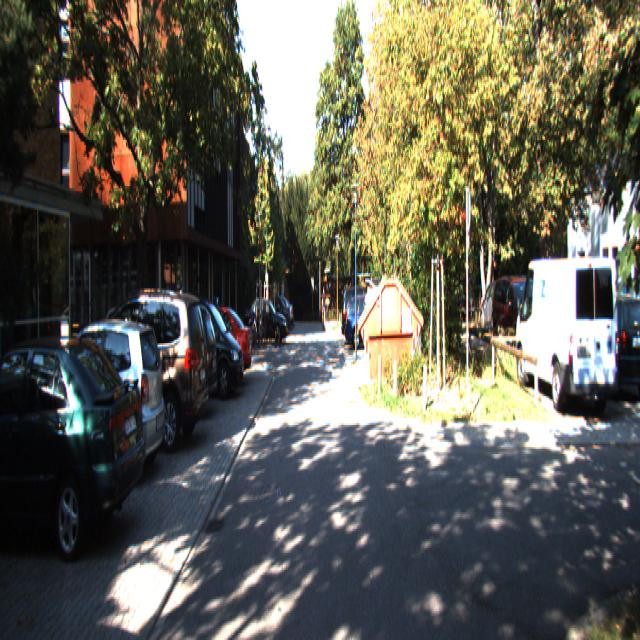Car: (0, 324, 150, 562), (24, 312, 168, 492), (64, 285, 210, 456), (511, 249, 622, 420), (115, 300, 220, 418), (160, 288, 245, 402), (562, 288, 640, 402), (173, 309, 251, 394), (492, 274, 554, 366), (344, 293, 392, 350)
DontCare: (242, 293, 294, 345), (319, 284, 326, 331)
